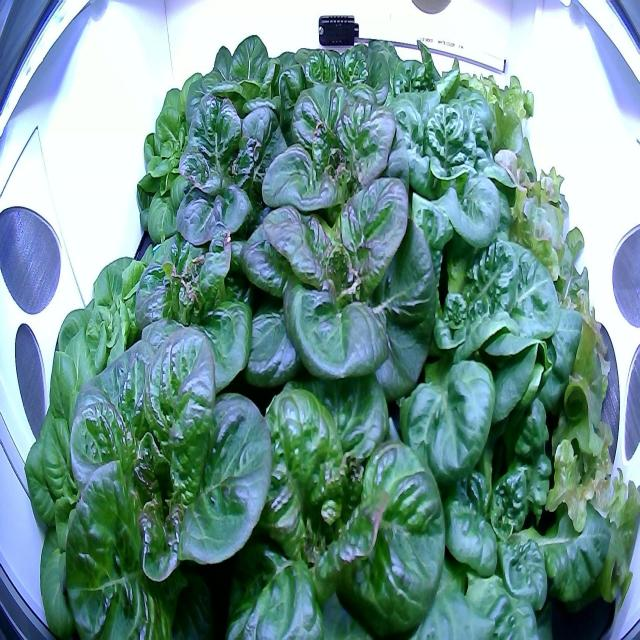Ready: (214, 331, 484, 640), (50, 311, 283, 635), (393, 358, 612, 635), (228, 158, 440, 414), (7, 331, 181, 625), (408, 210, 588, 446), (126, 220, 276, 422), (33, 240, 181, 439), (391, 76, 518, 270), (170, 85, 298, 274), (133, 51, 251, 247), (256, 74, 410, 224), (276, 29, 399, 167), (186, 16, 296, 158), (373, 28, 493, 144)
